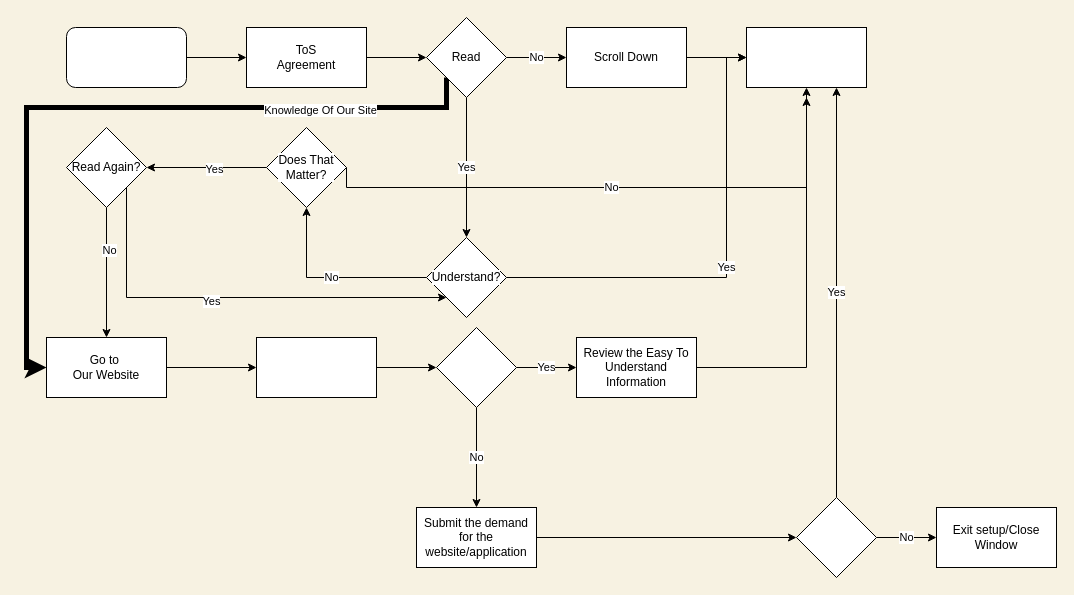
Image size: 1074x595. Some labels were removed from this diagram. The centre of each missing label's shape, as x and y in pixels:
"Accept Sign Away All Rights" belongs at point (806, 57).
"Do you need To sign Up Now?" belongs at point (836, 537).
"Found Website or Application?" belongs at point (476, 367).
"Search for Website/Application" belongs at point (316, 367).
"Sign Up / Install" belongs at point (126, 57).
